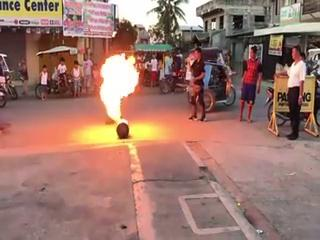Fire: (98, 53, 140, 123)
